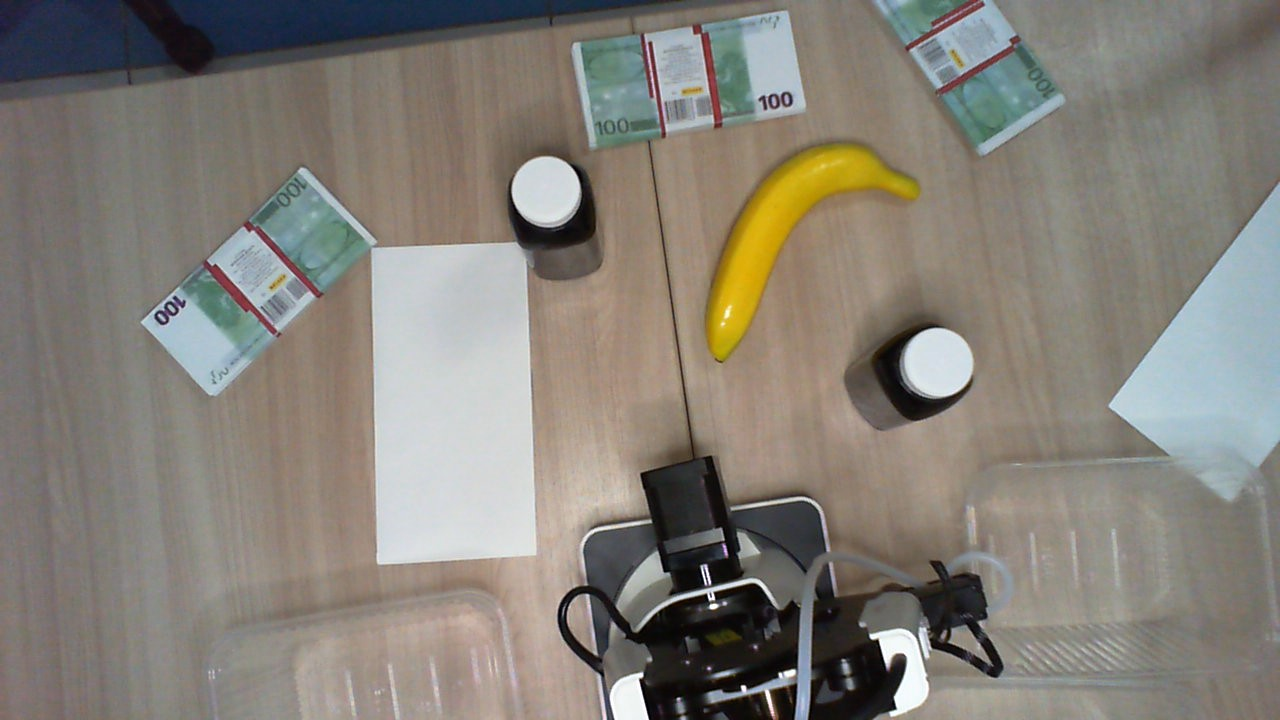banana: (703, 140, 923, 365)
bottle: (875, 318, 977, 415), (506, 157, 592, 247)
convert: (371, 237, 538, 569), (1107, 179, 1278, 500)
money: (138, 165, 378, 399), (571, 7, 807, 151), (868, 1, 1068, 158)
